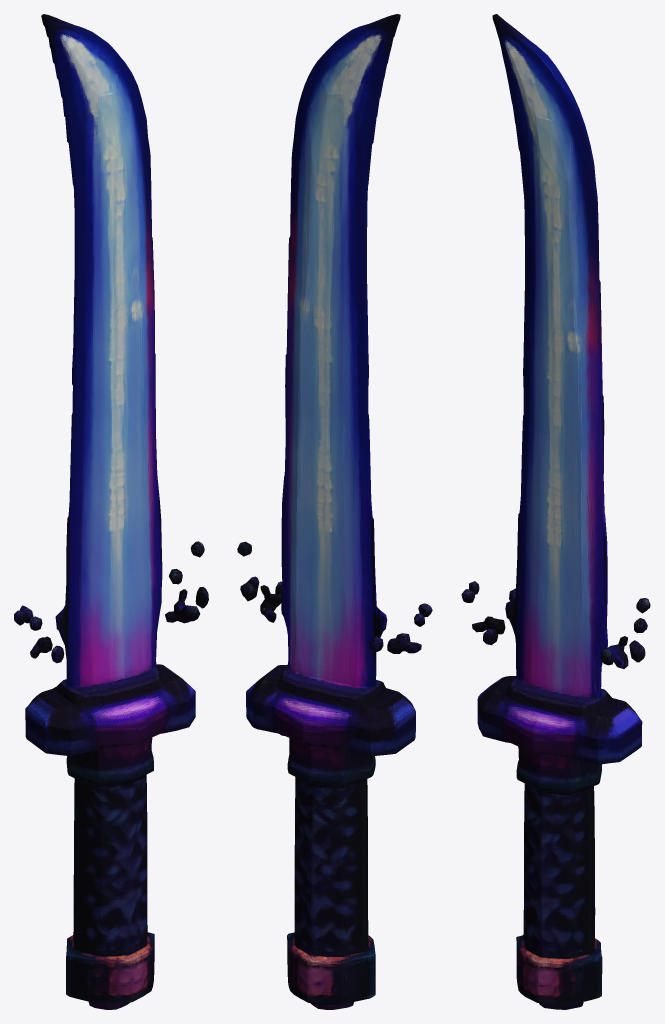
The model's file is weapon_katana.glb.
3 renders of one model, left to right at view 1: azimuth 30°, elevation 25°; view 2: azimuth 150°, elevation 25°; view 3: azimuth 330°, elevation 25°, orthographic. The views are drawn at different scales.
Parts seen in each view (by area): view 1: world; view 2: world; view 3: world.
Boxes of the visible parts, box(x1,y1,x2,y2) form: world: box(14, 14, 208, 1009); world: box(237, 14, 432, 1009); world: box(461, 14, 650, 1009).
Bounding box in the file's own units: 0.1959 × 1 × 0.0984.
Materials: 1 (1 with a texture image).
